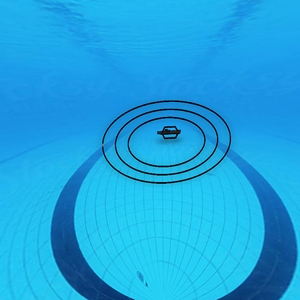circle: (100, 98, 233, 185)
submarine: (155, 123, 182, 143)
